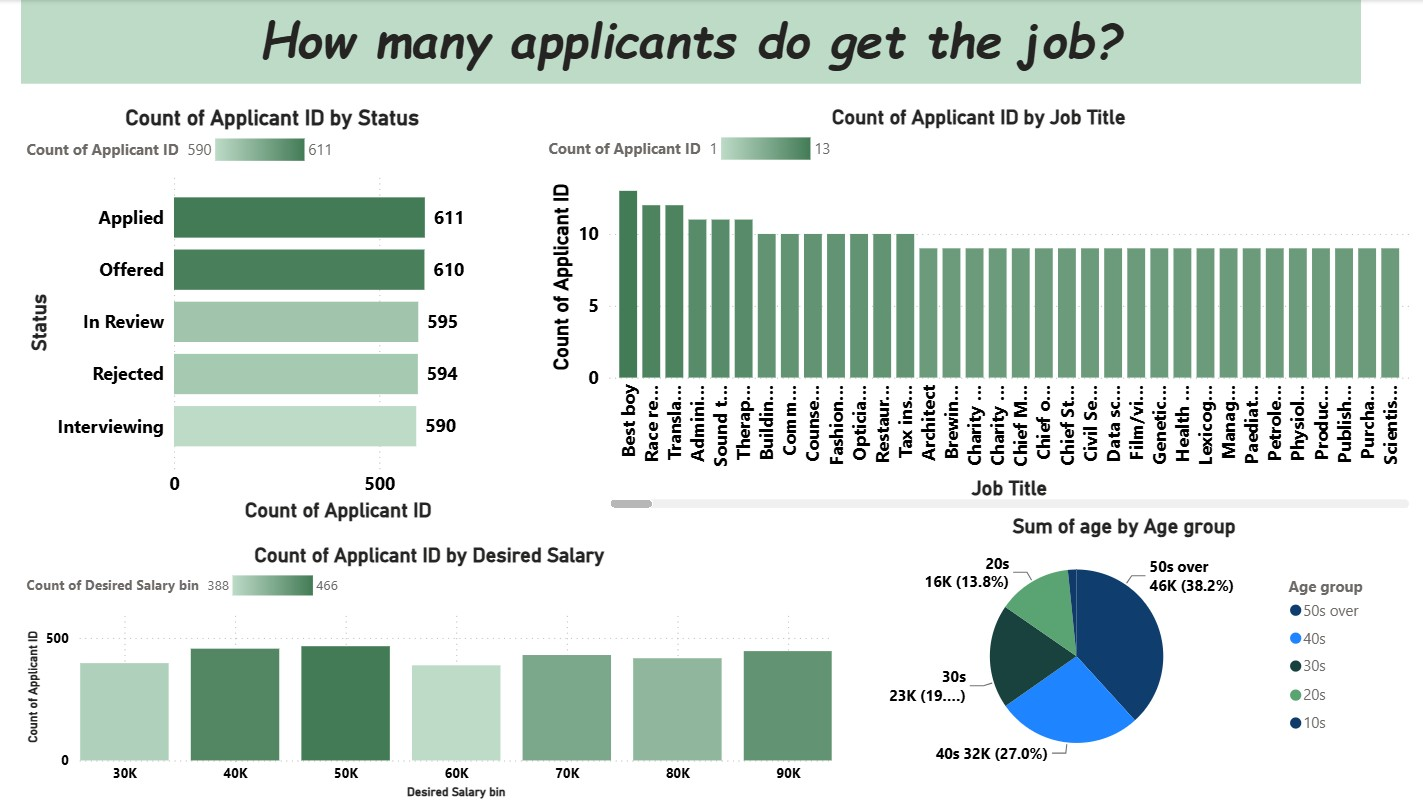

The dashboard page shown, as its layout file describes it:
{"tool":"powerbi","page":{"name":"Dashboard1","canvas":[1280,720],"ordinal":1},"visuals":[{"type":"clusteredBarChart","fields":{"Category":["recruitment_data.Status"],"Y":["CountNonNull(recruitment_data.Applicant ID)"]},"box":[21.6,93.8,450.1,378],"z":0},{"type":"columnChart","fields":{"Y":["CountNonNull(recruitment_data.Applicant ID)"],"Category":["recruitment_data.Job Title"]},"box":[489.1,93.8,780.5,366.5],"z":1000},{"type":"columnChart","title":"Count of Applicant ID by Desired Salary","fields":{"Category":["recruitment_data.Desired Salary - Copy (bins)"],"Y":["CountNonNull(recruitment_data.Applicant ID)"]},"box":[21.6,486.2,731.5,233.7],"z":2000},{"type":"textbox","box":[21.4,0,1199.6,74.8],"z":3000},{"type":"pieChart","fields":{"Y":["Sum(recruitment_data.age )"],"Category":["recruitment_data.Age group"]},"box":[771.9,460.2,474.7,233.7],"z":4000}]}

Visuals, with their boxes in screenshot pixels (x1, y1, x2, y2), scaled from the page's 1280x720 canvas onto the 1423x804 screenshot:
clusteredBarChart - recruitment_data.Status x CountNonNull(recruitment_data.Applicant ID): rect(24, 105, 524, 527)
columnChart - CountNonNull(recruitment_data.Applicant ID) x recruitment_data.Job Title: rect(544, 105, 1411, 514)
"Count of Applicant ID by Desired Salary" columnChart: rect(24, 543, 837, 803)
textbox: rect(24, 0, 1357, 84)
pieChart - Sum(recruitment_data.age ) x recruitment_data.Age group: rect(858, 514, 1386, 775)
